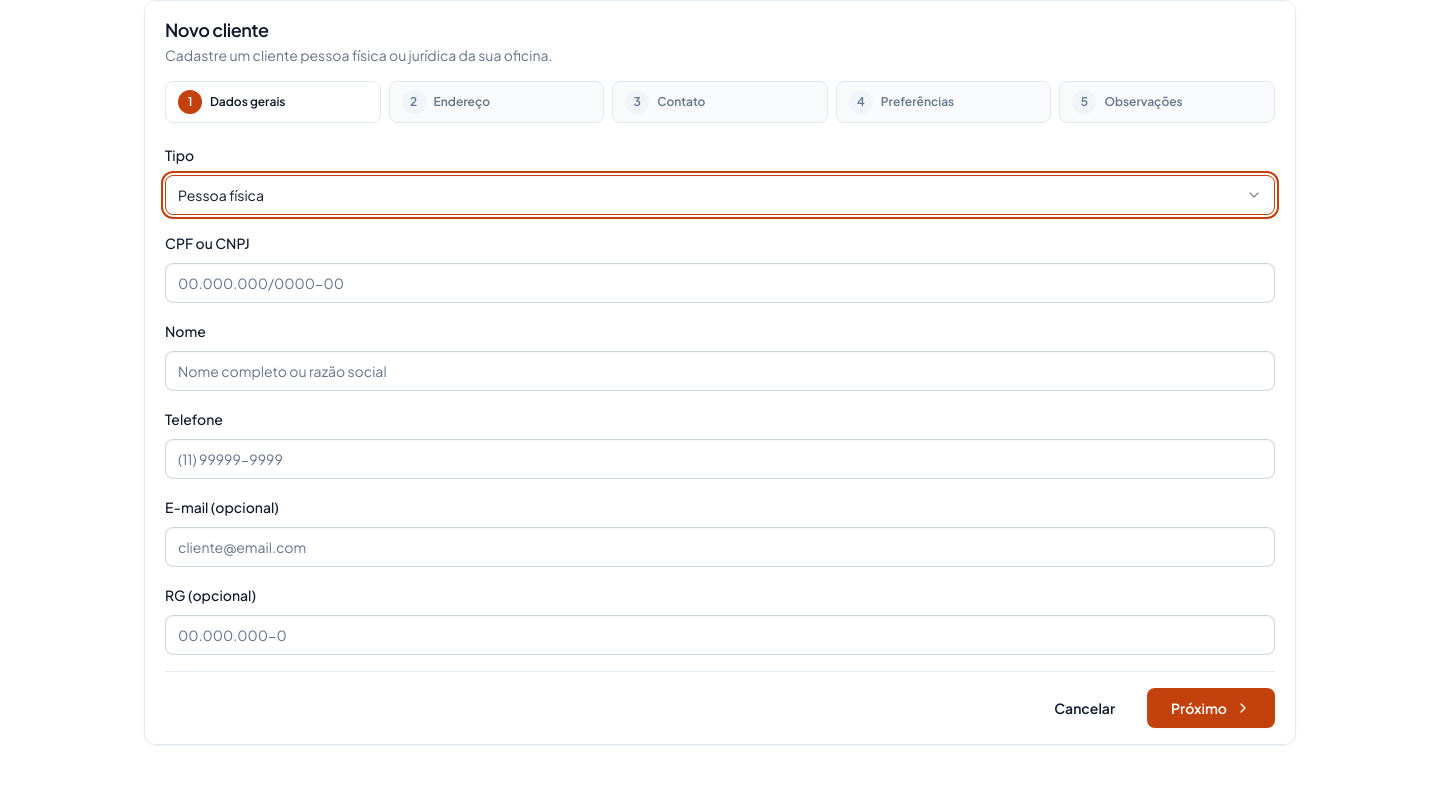
Test case: CustomerFormModal › shows address as a separate step in the guided create flow
Expected: the list item "Endereço" is shown, [434,94,490,109]
Expected: the field labelled "rua" is not shown
Type "11144477735" into the field labelled "CPF ou CNPJ".
click(720, 283); type("11144477735")  # box [165,263,1275,303]
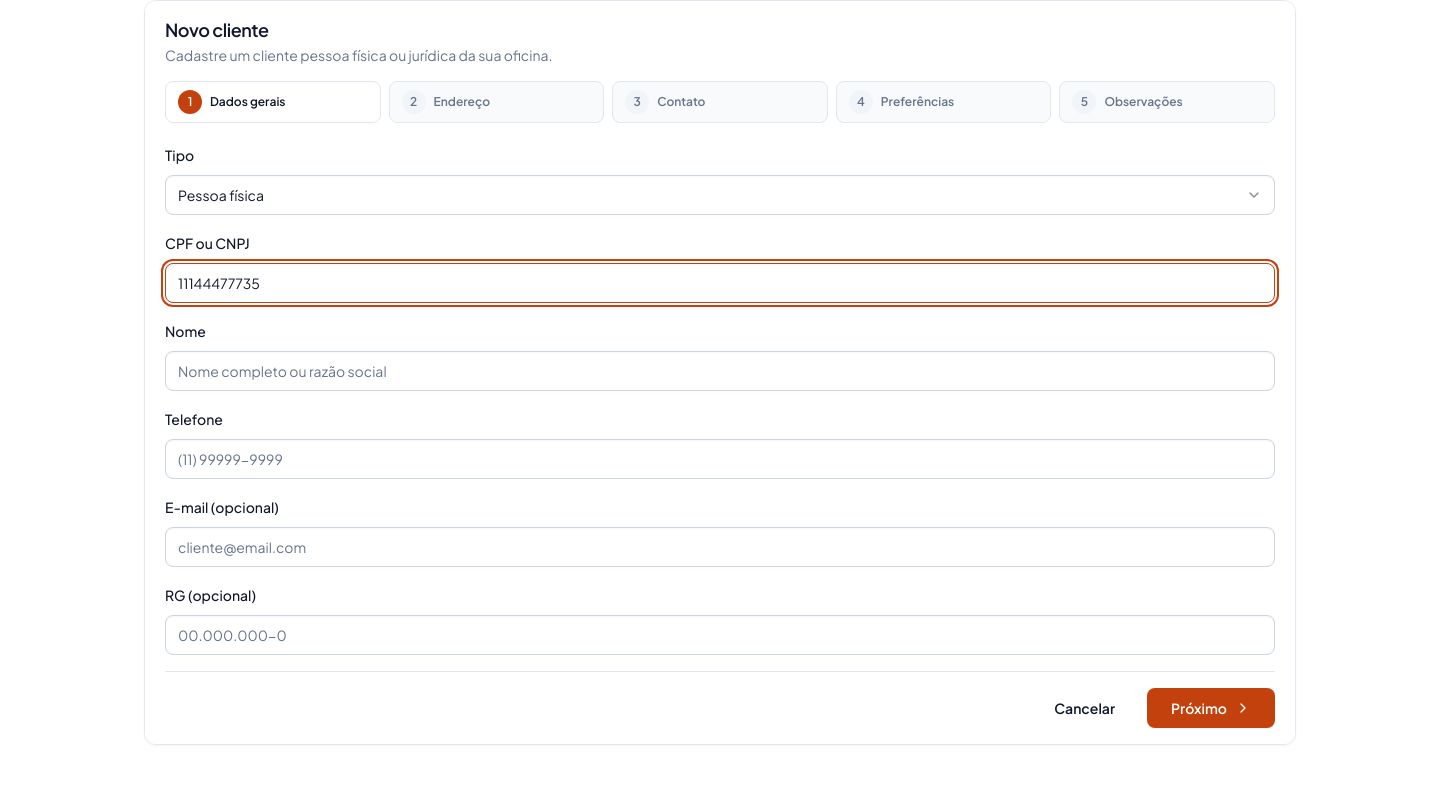
Type "Maria Souza" into the field labelled "Nome".
click(720, 371); type("Maria Souza")  # box [165,351,1275,391]
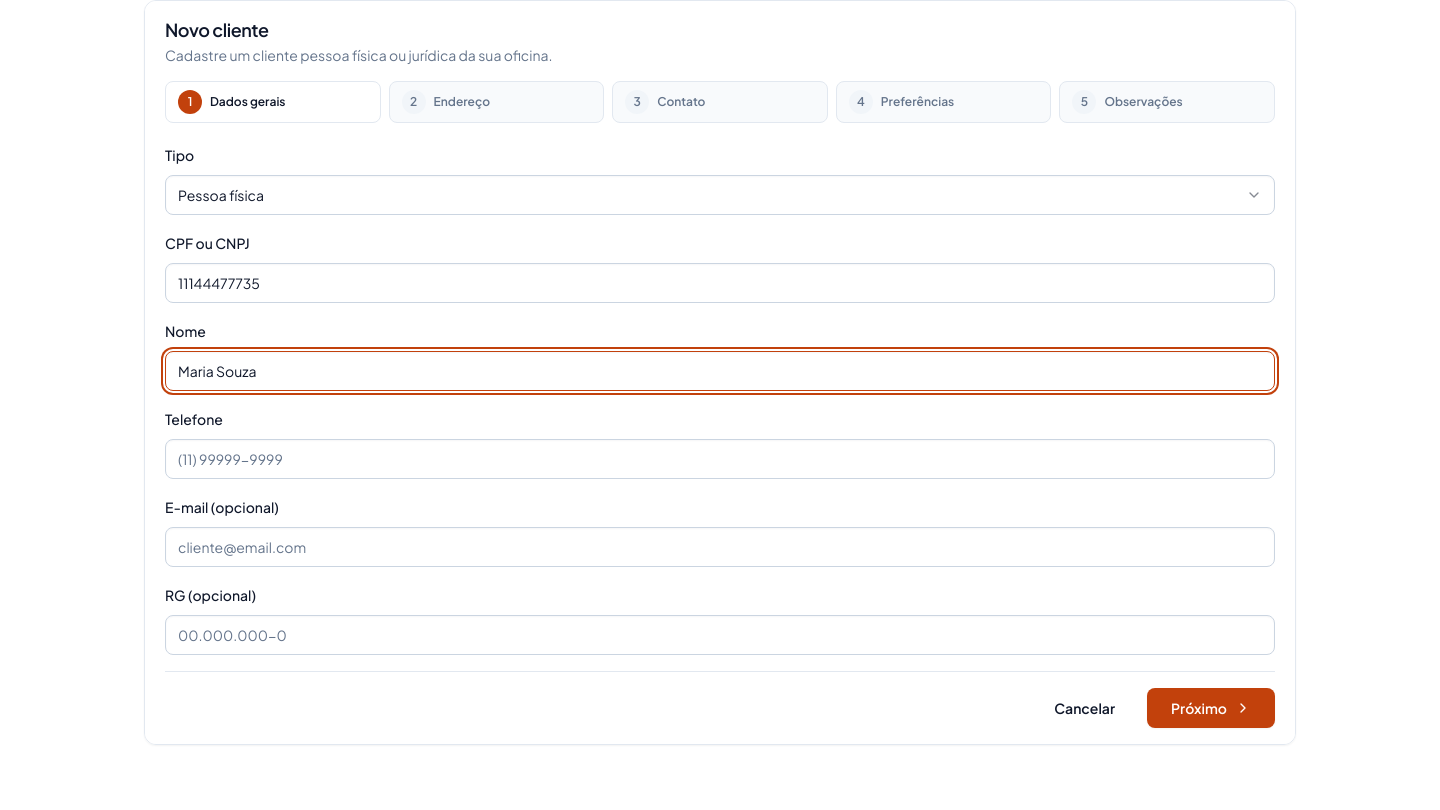
Type "11988887777" into the field labelled "Telefone".
click(720, 459); type("11988887777")  # box [165,439,1275,479]
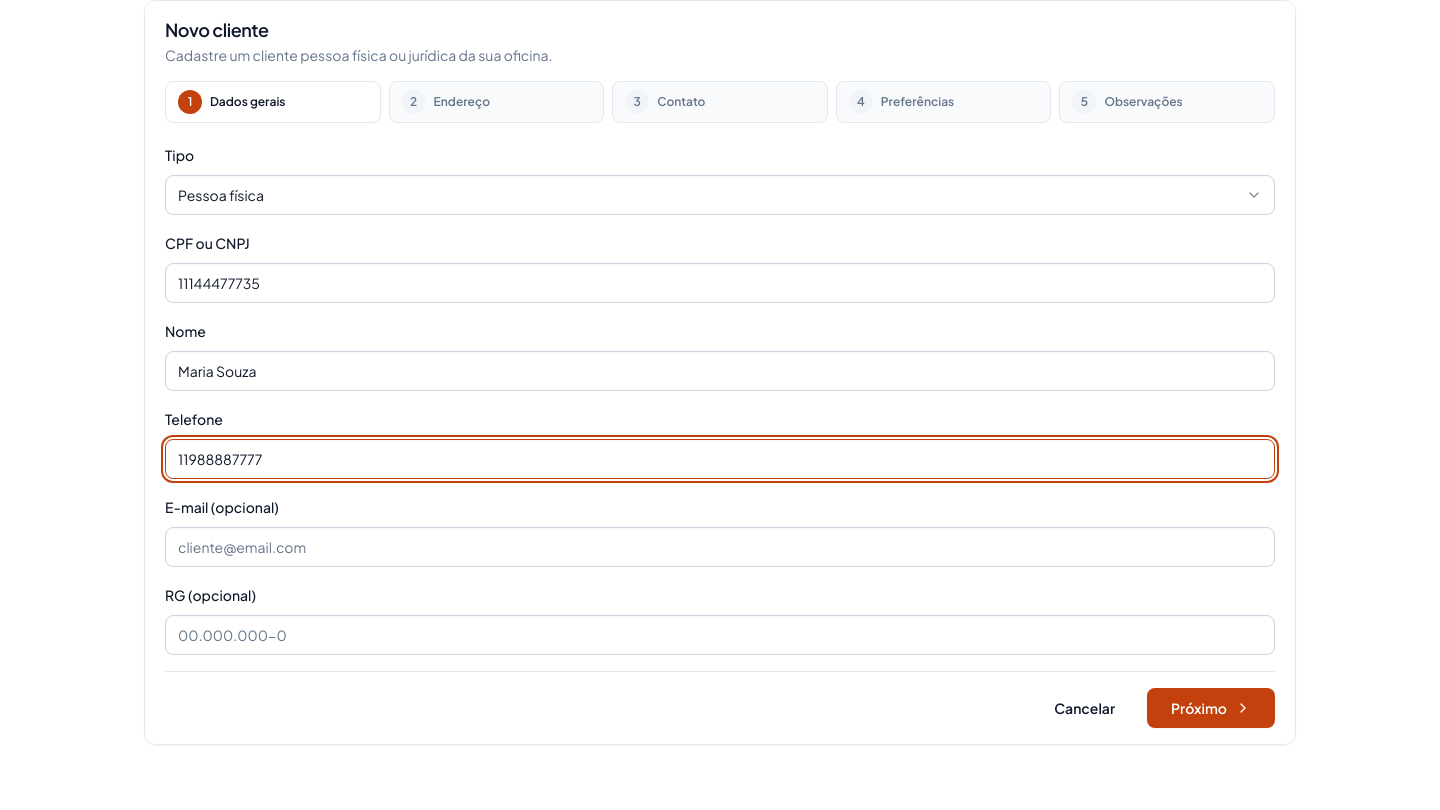
Click the button "Próximo".
click(1211, 708)  # box [1147,688,1275,728]
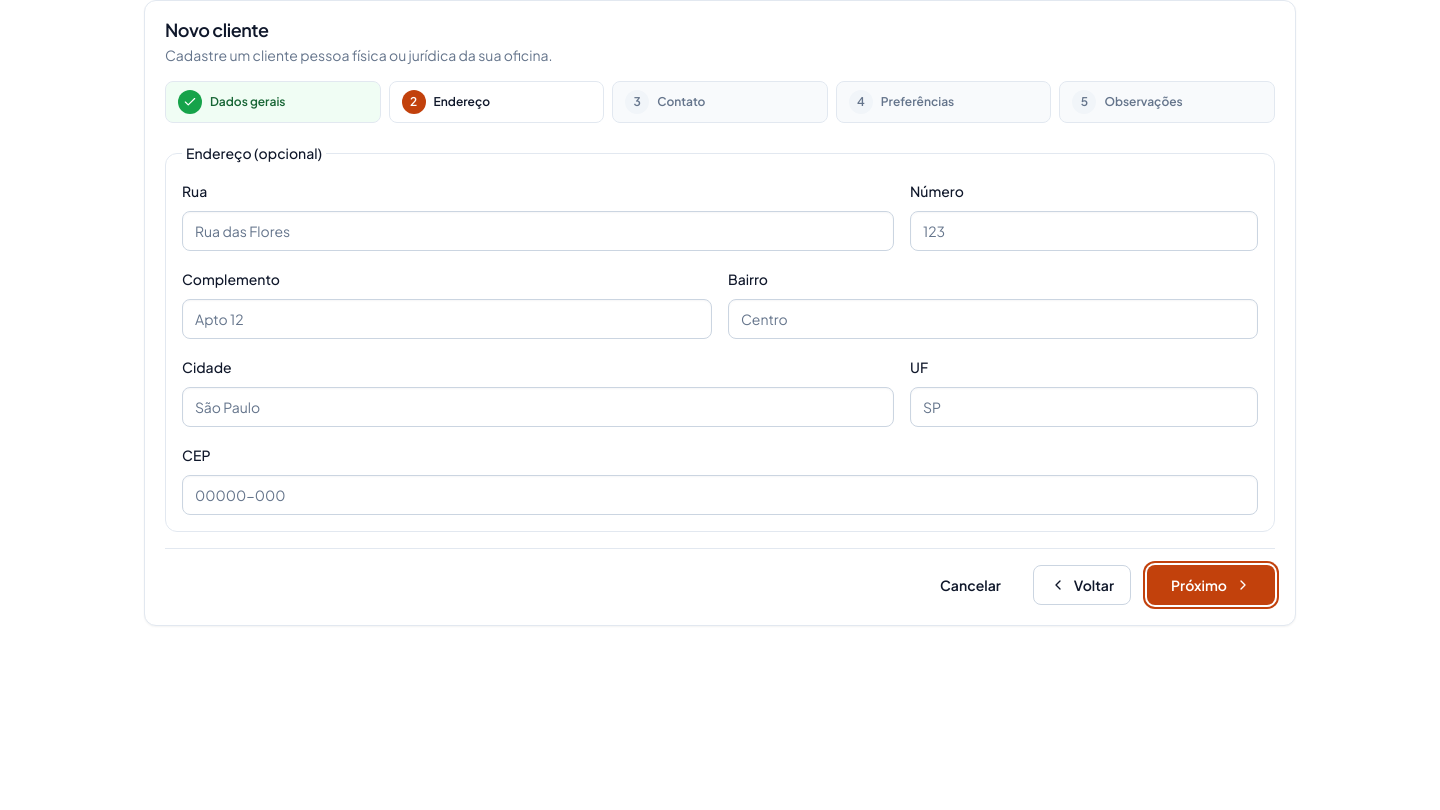
Expected: the field labelled "Rua" is shown, [182,211,894,251]
Expected: the label labelled "Nome" is gone
